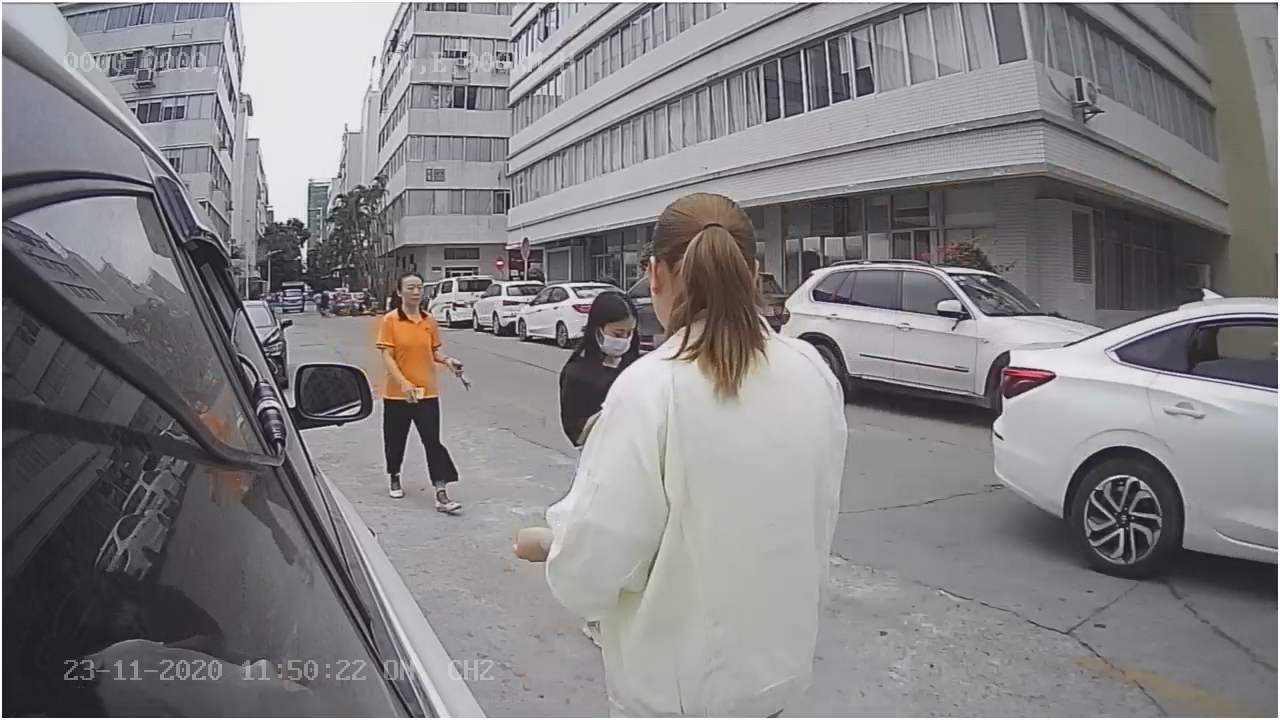person: (375, 257, 467, 517)
